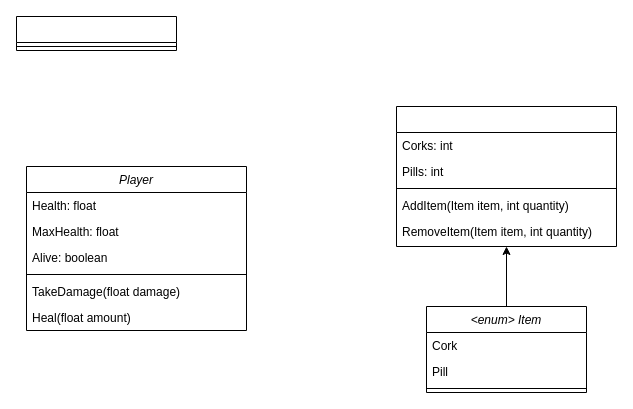
This 633x409 diagram has some shape labels left out. The shapes that lost their labels are listed below. From the top down, each one's box as (x1, y1, x2, y2) in pixels, then its label:
(16, 16, 176, 50): PlayerController
(396, 106, 616, 246): Inventory
